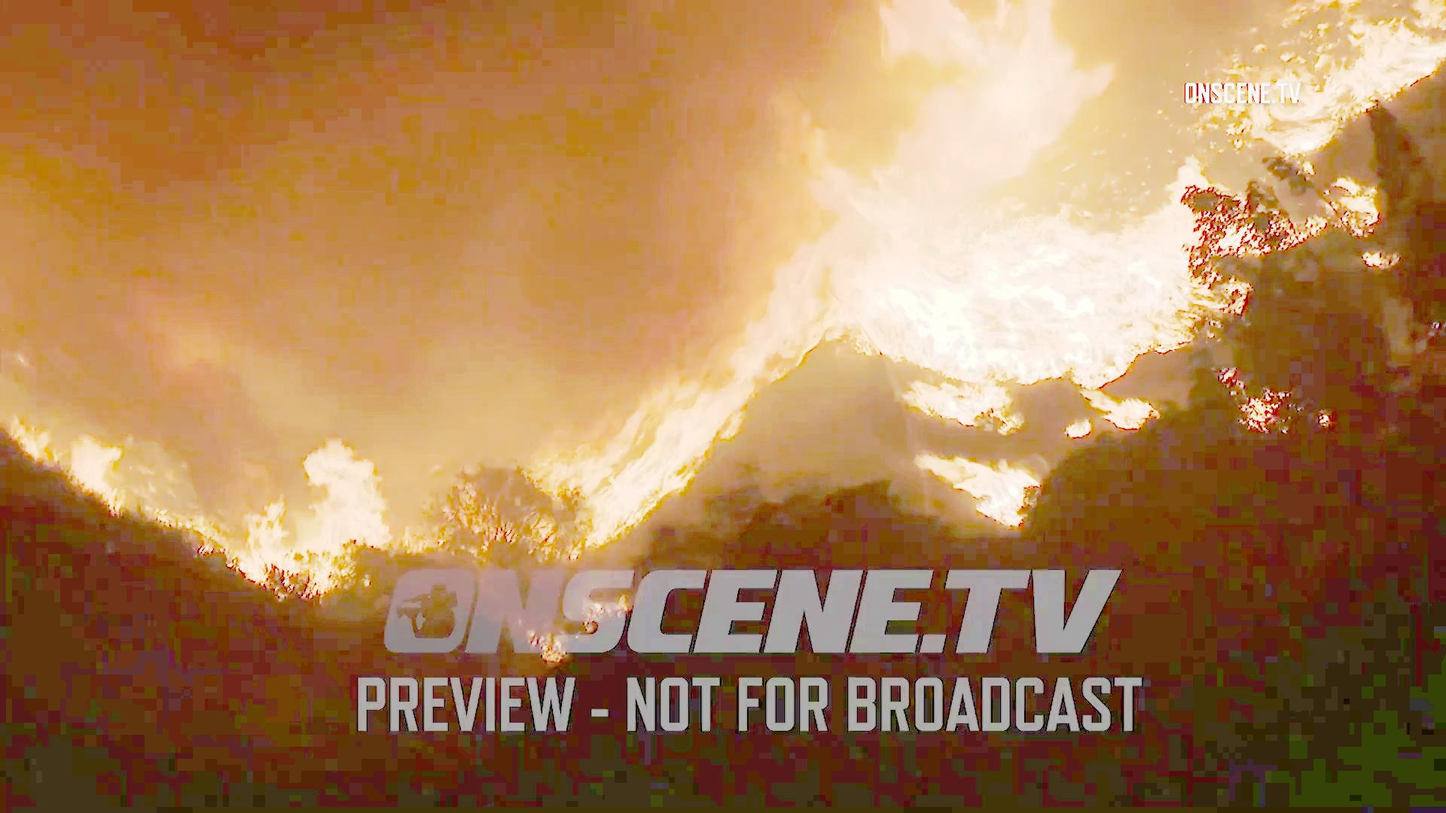fire: (833, 6, 1160, 378), (234, 428, 386, 604), (546, 356, 713, 515), (1320, 0, 1446, 117)
